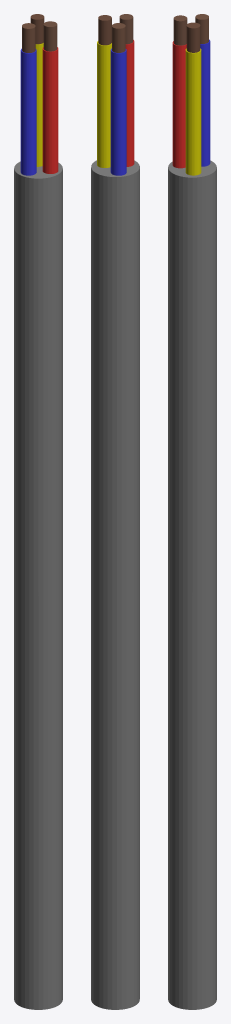
The model's file is Cable pelado.fbx.
3 views of the same model, side by side, from view 1: azimuth 90°, elevation 25°; view 2: azimuth 150°, elevation 25°; view 3: azimuth 270°, elevation 25° (orthographic).
Visible parts, largest first — view 1: Cilindro, Cilindro.001, Cilindro.006, Cilindro.004, Cilindro.005, Cilindro.002, Cilindro.003; view 2: Cilindro, Cilindro.001, Cilindro.004, Cilindro.006, Cilindro.003, Cilindro.002, Cilindro.005; view 3: Cilindro, Cilindro.004, Cilindro.006, Cilindro.001, Cilindro.003, Cilindro.005, Cilindro.002.
Part boxes in pixels (bbox=[...]): Cilindro: bbox=[14, 161, 62, 1009]; Cilindro.001: bbox=[20, 48, 36, 175]; Cilindro.006: bbox=[42, 47, 58, 173]; Cilindro.004: bbox=[35, 43, 43, 166]; Cilindro.005: bbox=[43, 21, 57, 51]; Cilindro.002: bbox=[22, 23, 35, 52]; Cilindro.003: bbox=[30, 14, 44, 44]; Cilindro: bbox=[91, 160, 139, 1009]; Cilindro.001: bbox=[110, 48, 126, 175]; Cilindro.004: bbox=[97, 41, 111, 167]; Cilindro.006: bbox=[125, 40, 134, 166]; Cilindro.003: bbox=[98, 15, 111, 45]; Cilindro.002: bbox=[112, 23, 125, 52]; Cilindro.005: bbox=[119, 14, 133, 44]; Cilindro: bbox=[168, 160, 216, 1009]; Cilindro.004: bbox=[185, 48, 201, 175]; Cilindro.006: bbox=[172, 41, 186, 168]; Cilindro.001: bbox=[200, 39, 210, 166]; Cilindro.003: bbox=[186, 22, 200, 52]; Cilindro.005: bbox=[173, 15, 187, 45]; Cilindro.002: bbox=[195, 14, 208, 43].
Size of the model in its own units: 2 by 44.29 by 2.
